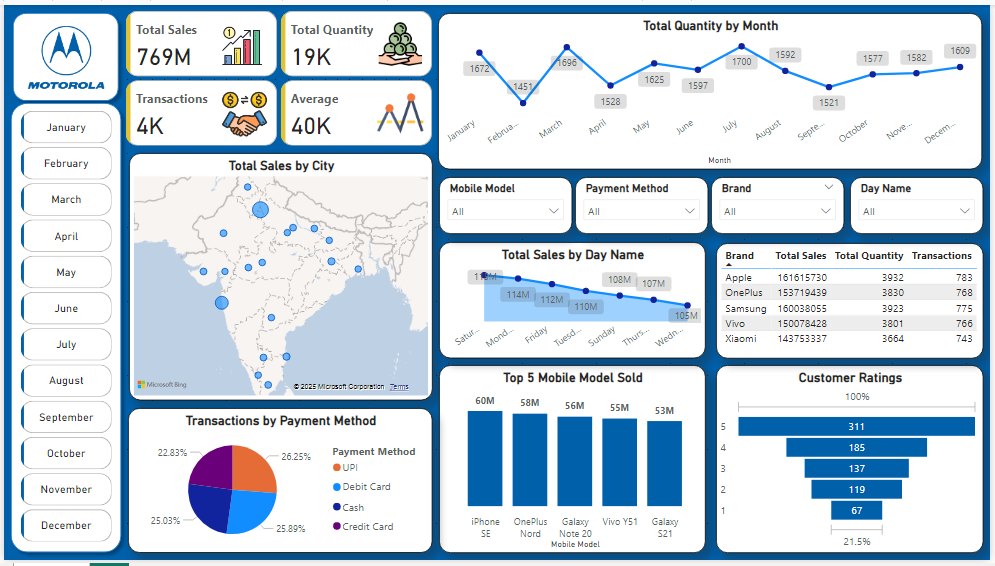

Layout of this report page (visuals, bound fields, positions):
{"tool":"powerbi","page":{"name":"Page 1","canvas":[1280,720],"ordinal":0},"visuals":[{"type":"group","id":"g1","title":"Group 1","box":[3.2,0.9,155,132.1],"z":0},{"type":"shape","box":[3.2,0.9,155,132.1],"z":0,"group":"g1"},{"type":"shape","box":[0,118.6,161.4,601.4],"z":0,"group":"g2"},{"type":"cardVisual","fields":{"Data":["Sales_Data.Total Sales","Sales_Data.Total Quantity","Sales_Data.Transaction","Sales_Data.Average"]},"box":[153.3,2.5,408.3,185],"z":1000},{"type":"image","box":[26.6,10.3,108.6,114.3],"z":1000,"group":"g1"},{"type":"advancedSlicerVisual","fields":{"Values":["Sheet1.Date.Variation.Date Hierarchy.Month"]},"box":[16.3,132.9,128.7,569.5],"z":1001,"group":"g2"},{"type":"map","fields":{"Category":["Sales_Data.City"],"Size":["Sales_Data.Total Sales"]},"box":[161.5,192.3,393.8,320.8],"z":2000},{"type":"group","id":"g2","title":"Group 2","box":[0,118.6,161.4,601.4],"z":3000},{"type":"lineChart","fields":{"Y":["Sales_Data.Total Quantity"],"Category":["Sales_Data.Date.Variation.Date Hierarchy.Month","Sales_Data.Date.Variation.Date Hierarchy.Day"]},"box":[562.9,10,705.7,202.9],"z":4000},{"type":"clusteredColumnChart","title":"Top 5 Mobile Model Sold","fields":{"Category":["Sales_Data.Mobile Model"],"Y":["Sales_Data.Total Sales"]},"box":[564.6,467.1,345.7,244.3],"z":5000},{"type":"pieChart","fields":{"Category":["Sales_Data.Payment Method"],"Y":["Sales_Data.Transactions"]},"box":[161,523,395,188],"z":6000},{"type":"funnel","title":"Customer Ratings","fields":{"Category":["Sales_Data.Customer Ratings"],"Y":["CountNonNull(Sales_Data.Customer Ratings)"]},"box":[923.2,467.1,347.1,244.3],"z":7000},{"type":"tableEx","fields":{"Values":["Sales_Data.Brand","Sales_Data.Total Sales","Sales_Data.Total Quantity","Sales_Data.Transactions"]},"box":[923.2,309,347.1,150],"z":8000},{"type":"areaChart","fields":{"Category":["Sales_Data.Day Name"],"Y":["Sales_Data.Total Sales"]},"box":[564.6,307.6,345.7,151.4],"z":9000},{"type":"slicer","fields":{"Values":["Sales_Data.Mobile Model"]},"box":[564.6,222.9,172.9,74.3],"z":9001},{"type":"slicer","fields":{"Values":["Sales_Data.Payment Method"]},"box":[740.3,222.9,172.9,74.3],"z":9002},{"type":"slicer","fields":{"Values":["Sales_Data.Brand"]},"box":[917.5,222.9,172.9,74.3],"z":9003},{"type":"slicer","fields":{"Values":["Sales_Data.Day Name"]},"box":[1097.5,222.9,172.9,74.3],"z":9004}]}

Visuals, with their boxes in screenshot pixels (x1, y1, x2, y2), scaled from the page's 1280x720 canvas onto the 995x566 screenshot:
"Group 1" group: 2 1 123 105
shape: 2 1 123 105
shape: 0 93 125 565
cardVisual - Sales_Data.Total Sales x Sales_Data.Total Quantity: 119 2 437 147
image: 21 8 105 98
advancedSlicerVisual - Sheet1.Date.Variation.Date Hierarchy.Month: 13 104 113 552
map - Sales_Data.City x Sales_Data.Total Sales: 126 151 432 403
"Group 2" group: 0 93 125 565
lineChart - Sales_Data.Total Quantity x Sales_Data.Date.Variation.Date Hierarchy.Month: 438 8 986 167
"Top 5 Mobile Model Sold" clusteredColumnChart: 439 367 708 559
pieChart - Sales_Data.Payment Method x Sales_Data.Transactions: 125 411 432 559
"Customer Ratings" funnel: 718 367 987 559
tableEx - Sales_Data.Brand x Sales_Data.Total Sales: 718 243 987 361
areaChart - Sales_Data.Day Name x Sales_Data.Total Sales: 439 242 708 361
slicer - Sales_Data.Mobile Model: 439 175 573 234
slicer - Sales_Data.Payment Method: 575 175 710 234
slicer - Sales_Data.Brand: 713 175 848 234
slicer - Sales_Data.Day Name: 853 175 988 234
